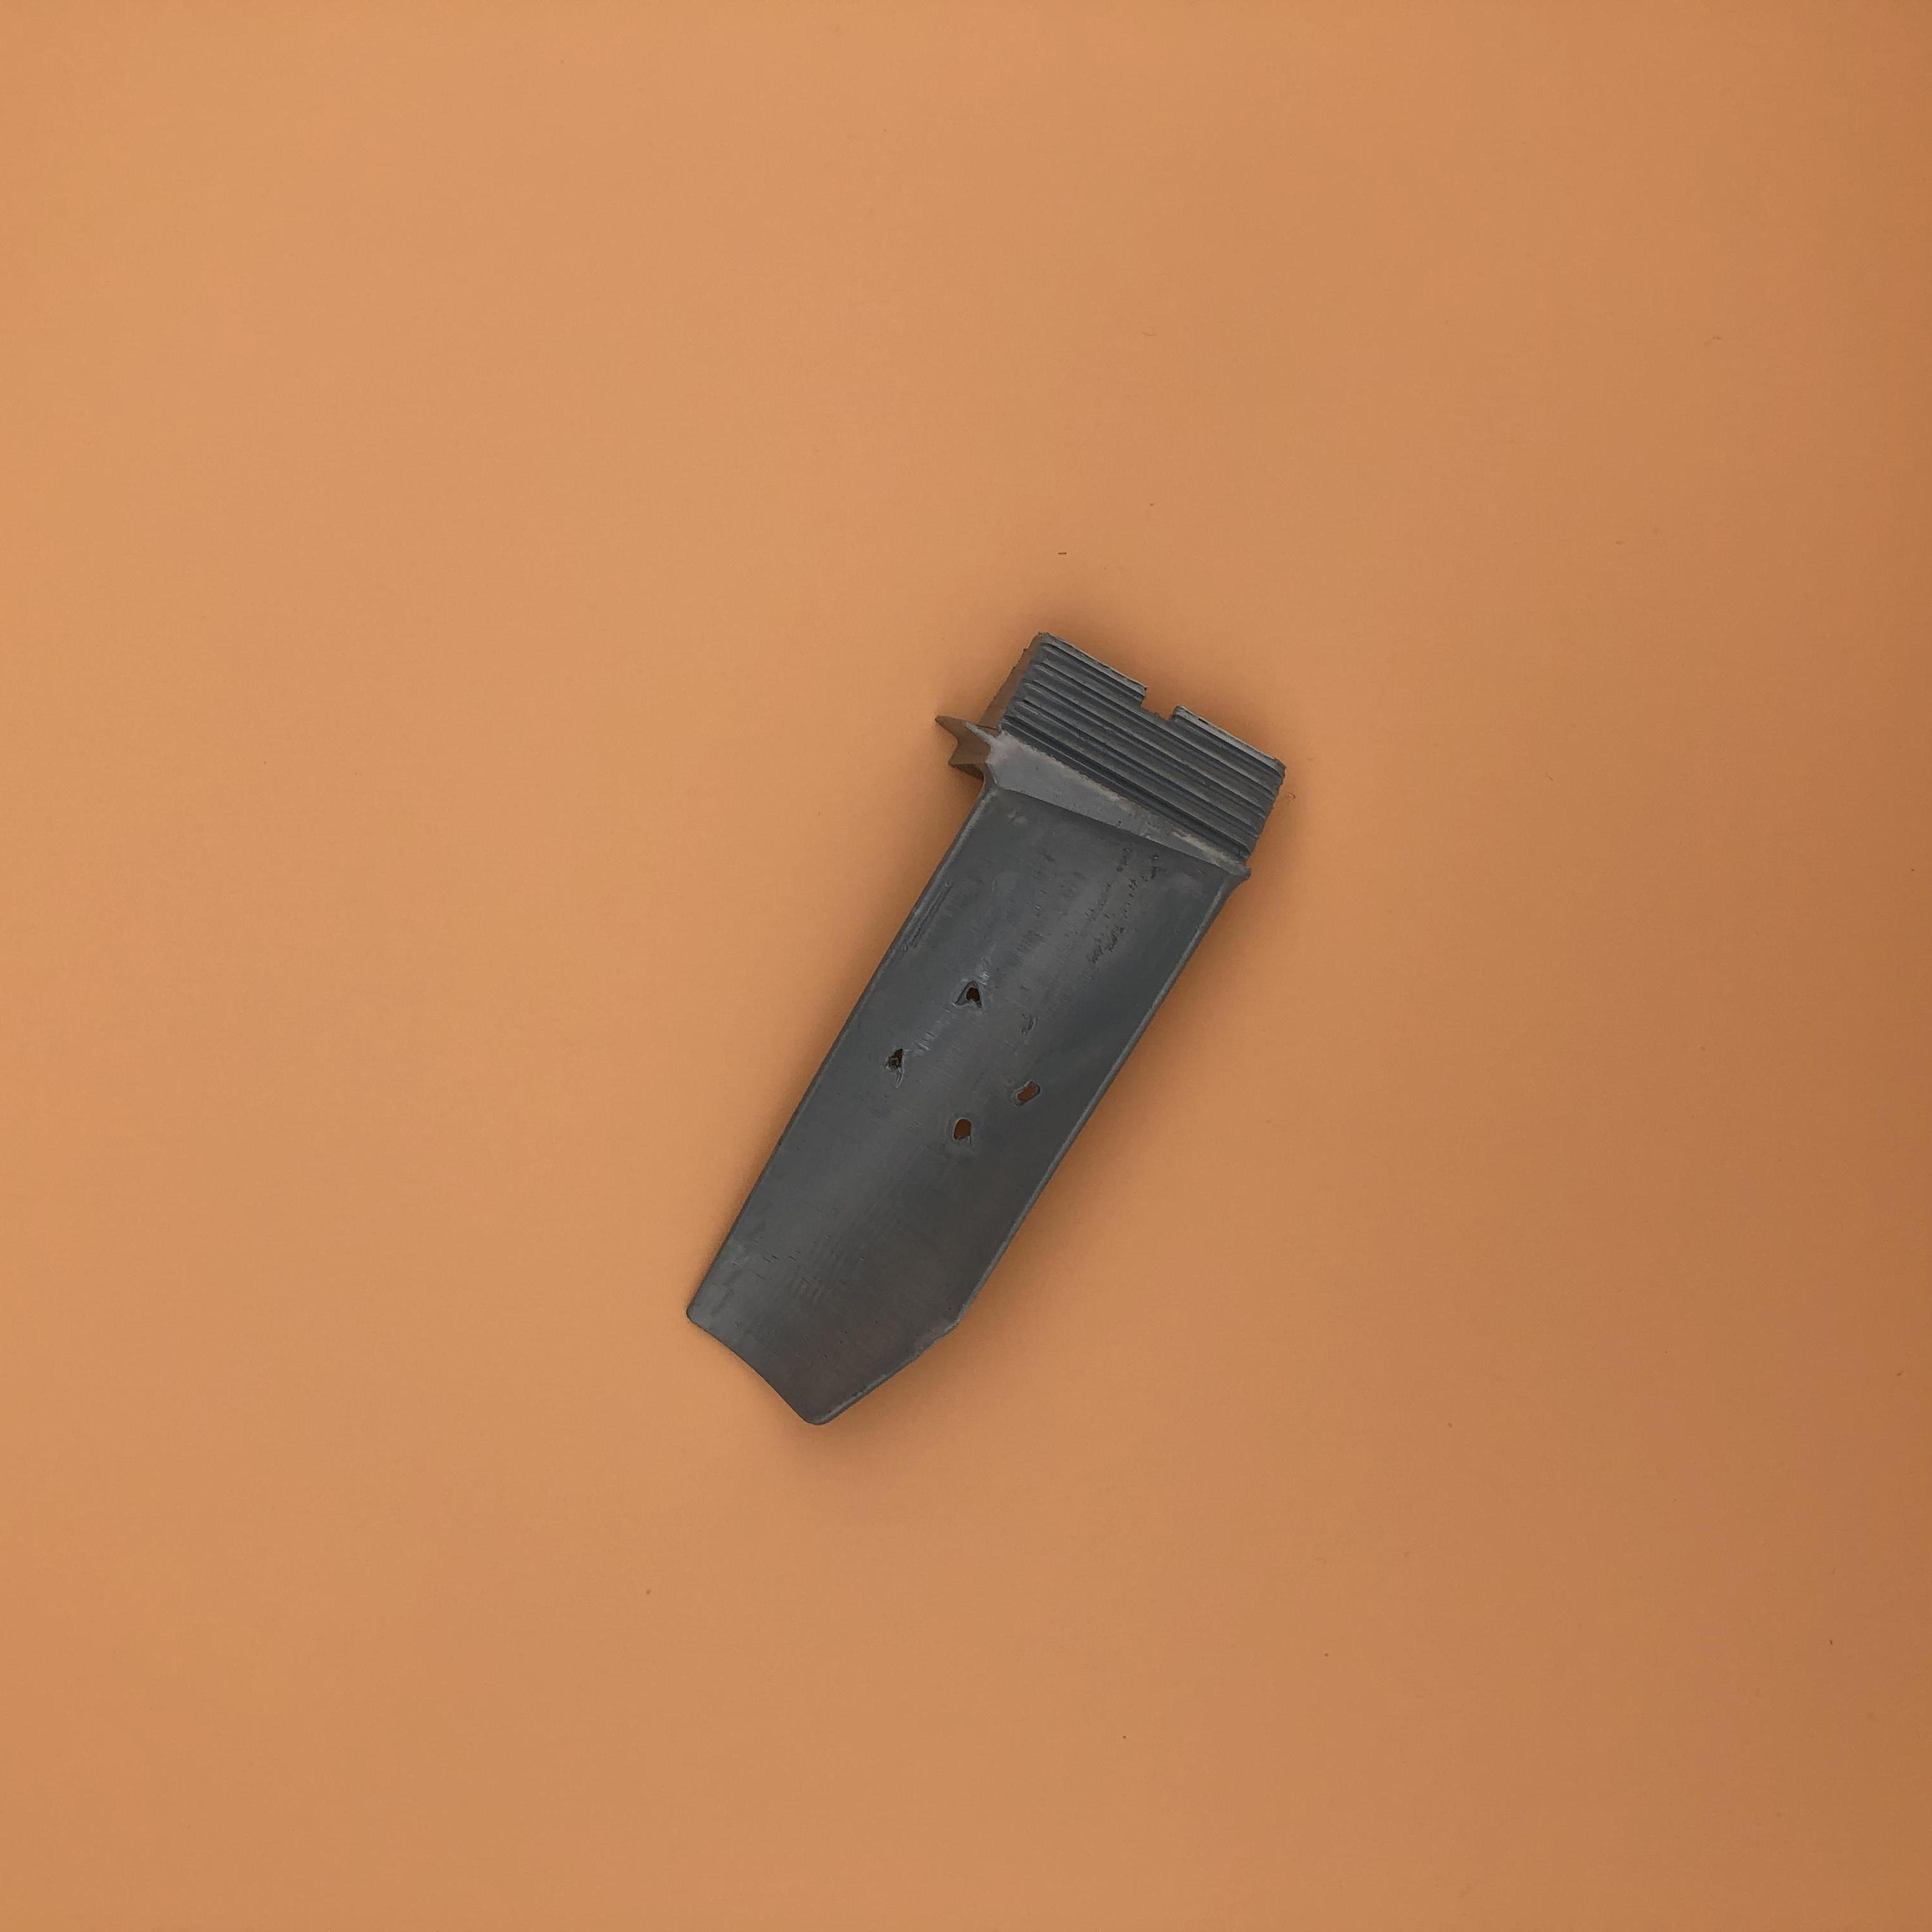breakdown: (897, 993, 1053, 1146)
